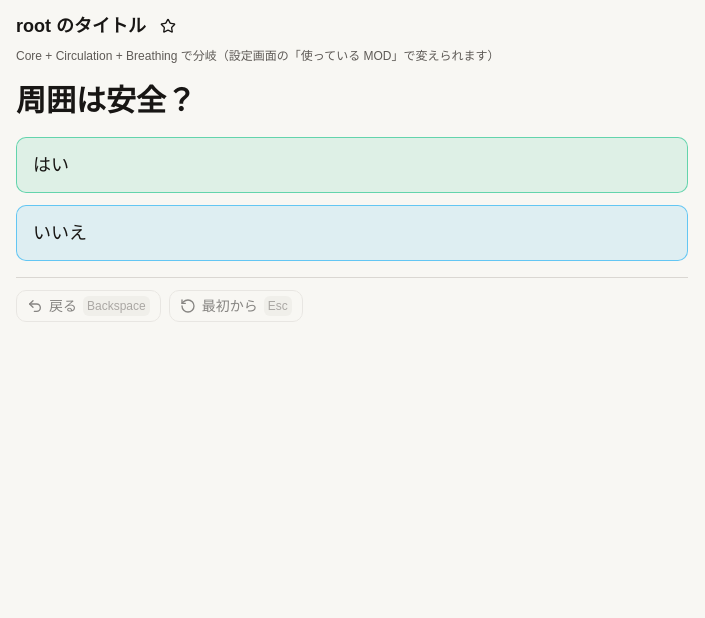
FlowRunner › 設定でキー操作をオフにすると、数字キーと Space を受けず、番号の印も出さない
Expected: the text "1" is not shown
Press 1
Expected: the heading "周囲は安全？" is shown, [16, 84, 196, 117]
Click the button "はい" at [51, 165], box [16, 137, 688, 193]
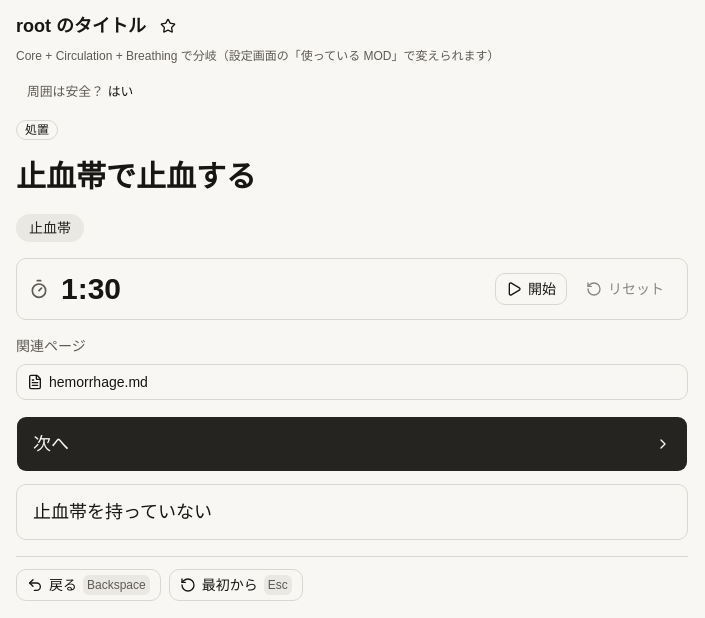
Now the heading "止血帯で止血する" is shown, box [16, 160, 256, 193]
Press Space
Now the button "開始" is shown, box [495, 272, 567, 304]
Press Backspace
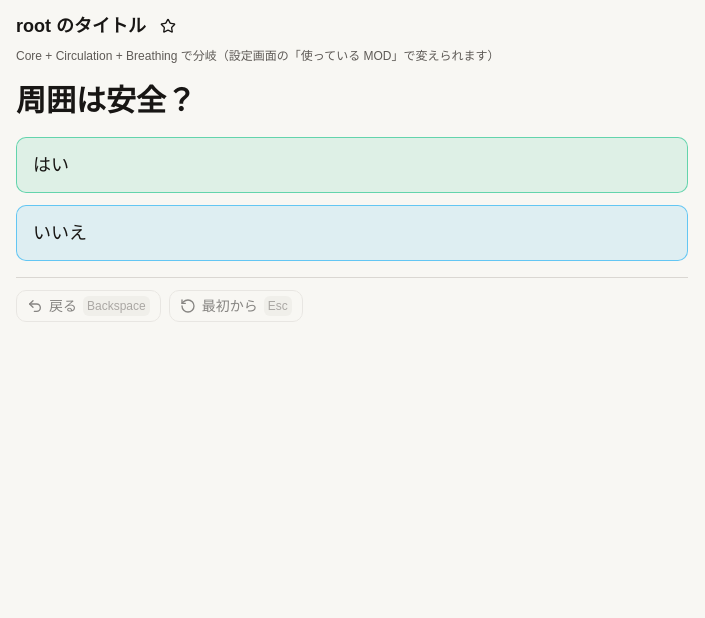
Now the heading "周囲は安全？" is shown, box [16, 84, 196, 117]
